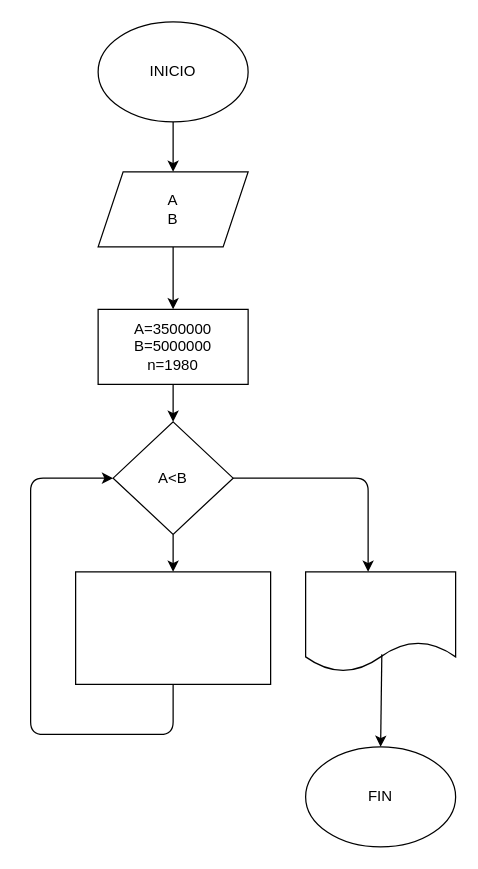
This 478x869 diagram has some shape labels left out. The shapes that lost their labels are listed below. From the top down, each one's centre as x and y in pixels, then its label:
[172,627]: A=A+(0.07) B=B(0.05) n=n+1
[380,621]: anual
